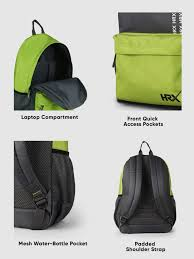backpack: (13, 19, 87, 110), (113, 140, 176, 233), (13, 140, 75, 229)
